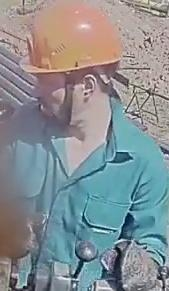gloves: (98, 238, 159, 291)
helmet: (18, 0, 123, 87)
vest: (5, 87, 168, 290)
